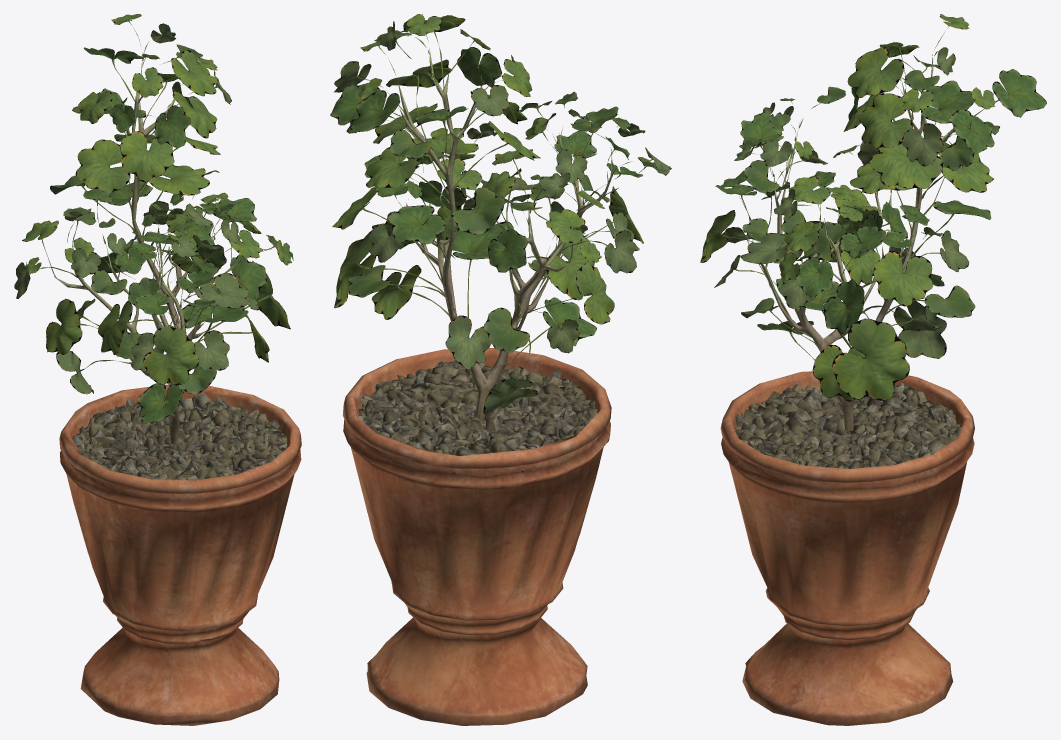
File: potted_plant_01_tv.gltf
3 views of the same model, side by side, from view 1: azimuth 30°, elevation 25°; view 2: azimuth 150°, elevation 25°; view 3: azimuth 270°, elevation 25° (orthographic). The views are drawn at different scales.
Visible parts, largest first — view 1: potted_plant_01_pot, potted_plant_01_leaves, potted_plant_01_pebbles, potted_plant_01_stem; view 2: potted_plant_01_pot, potted_plant_01_leaves, potted_plant_01_pebbles, potted_plant_01_stem; view 3: potted_plant_01_pot, potted_plant_01_leaves, potted_plant_01_pebbles, potted_plant_01_stem.
Boxes of the visible parts, box(x1,y1,x2,y2) form: potted_plant_01_pot: box(59, 384, 301, 725); potted_plant_01_leaves: box(14, 14, 293, 423); potted_plant_01_pebbles: box(68, 392, 287, 480); potted_plant_01_stem: box(54, 57, 244, 444); potted_plant_01_pot: box(343, 348, 611, 725); potted_plant_01_leaves: box(330, 14, 671, 414); potted_plant_01_pebbles: box(358, 360, 597, 474); potted_plant_01_stem: box(397, 48, 612, 420); potted_plant_01_pot: box(720, 371, 974, 725); potted_plant_01_leaves: box(700, 14, 1046, 401); potted_plant_01_pebbles: box(735, 383, 961, 468); potted_plant_01_stem: box(752, 57, 954, 434).
Bounding box in the file's own units: 0.5871 × 1.34 × 0.6336.
2 materials, 2 textured.
